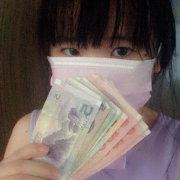OK: (48, 23, 156, 127)
